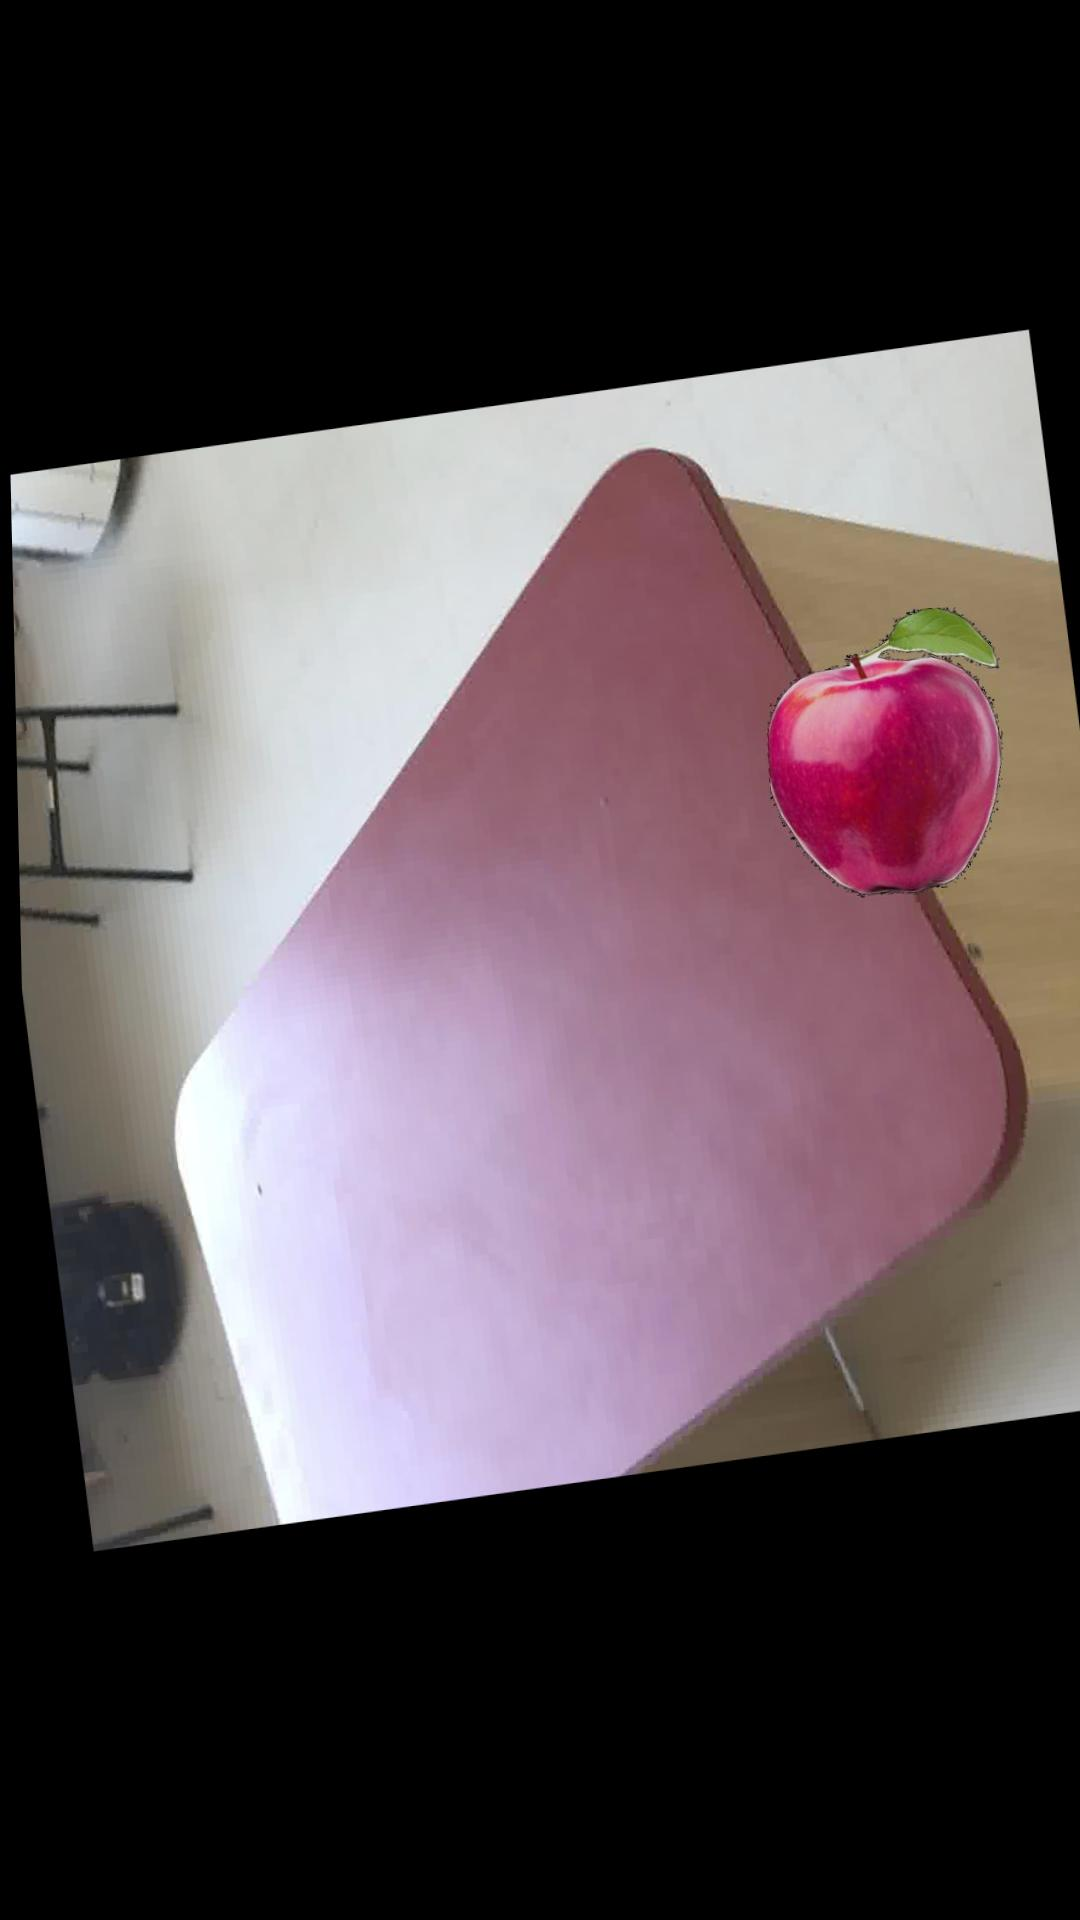apple: (762, 616, 997, 903)
